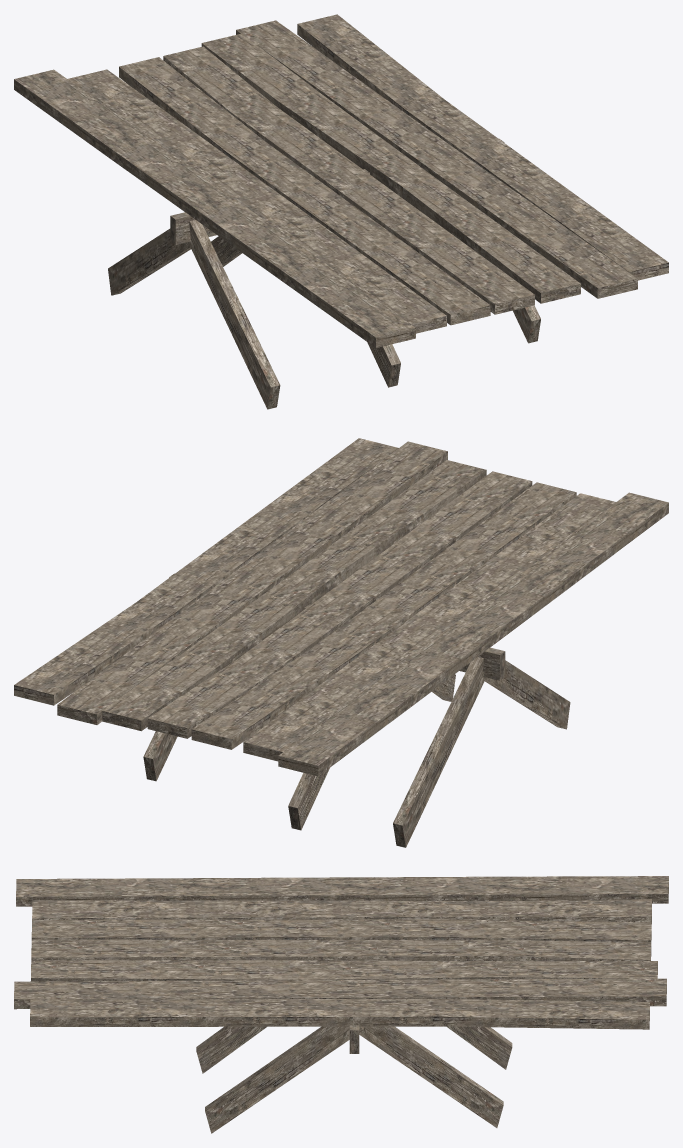
File: WoodTable.fbx
3 views of the same model, one above another, from view 1: azimuth 30°, elevation 25°; view 2: azimuth 150°, elevation 25°; view 3: azimuth 270°, elevation 25° (orthographic). The views are drawn at different scales.
Visible parts, largest first — view 1: WoodPlanks, WoodFenceBroken; view 2: WoodPlanks, WoodFenceBroken; view 3: WoodPlanks, WoodFenceBroken.
Part boxes in pixels (x1,y1,x2,y2): WoodPlanks: (14,14,668,347); WoodFenceBroken: (108,138,540,409); WoodPlanks: (14,438,668,776); WoodFenceBroken: (143,573,570,847); WoodPlanks: (14,876,668,1029); WoodFenceBroken: (196,1025,512,1133).
Size of the model in its own units: 271 by 122 by 508.
